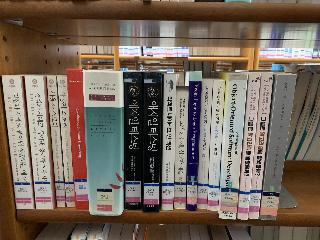book-spine: (82, 70, 122, 216), (257, 73, 296, 221), (217, 73, 248, 220), (2, 74, 34, 211), (24, 74, 53, 210), (247, 71, 273, 220), (237, 72, 260, 220), (66, 69, 89, 210), (140, 72, 163, 212), (46, 75, 66, 207), (206, 80, 226, 211), (124, 72, 143, 209), (185, 71, 202, 211), (58, 76, 75, 207), (161, 74, 177, 210), (197, 80, 213, 209), (175, 92, 188, 209)
